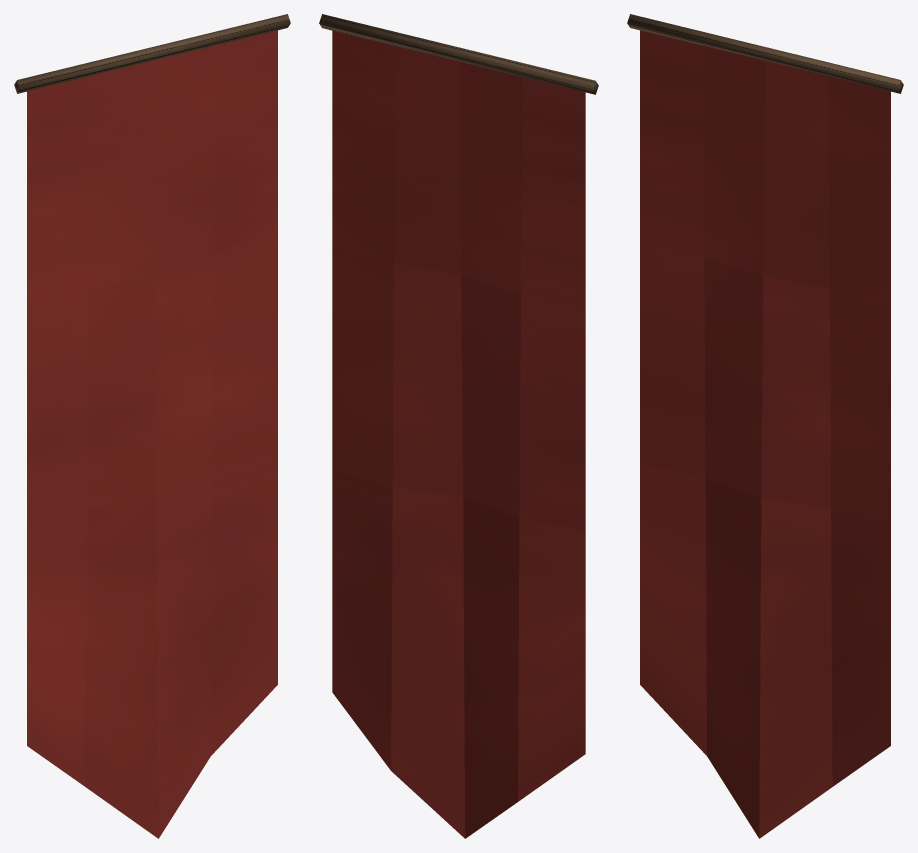
The model's file is Banner_1_Cloth_LOD1.gltf.
3 renders of one model, left to right at view 1: azimuth 30°, elevation 25°; view 2: azimuth 150°, elevation 25°; view 3: azimuth 330°, elevation 25°, orthographic.
Parts seen in each view (by area): view 1: Banner_1_Cloth_LOD1; view 2: Banner_1_Cloth_LOD1; view 3: Banner_1_Cloth_LOD1.
Boxes of the visible parts, <box> form: Banner_1_Cloth_LOD1: <box>14,14,290,838</box>; Banner_1_Cloth_LOD1: <box>319,14,598,838</box>; Banner_1_Cloth_LOD1: <box>627,14,903,838</box>.
Bounding box in the file's own units: 0.81 × 2.25 × 0.0546.
Materials: 2 (2 with a texture image).
